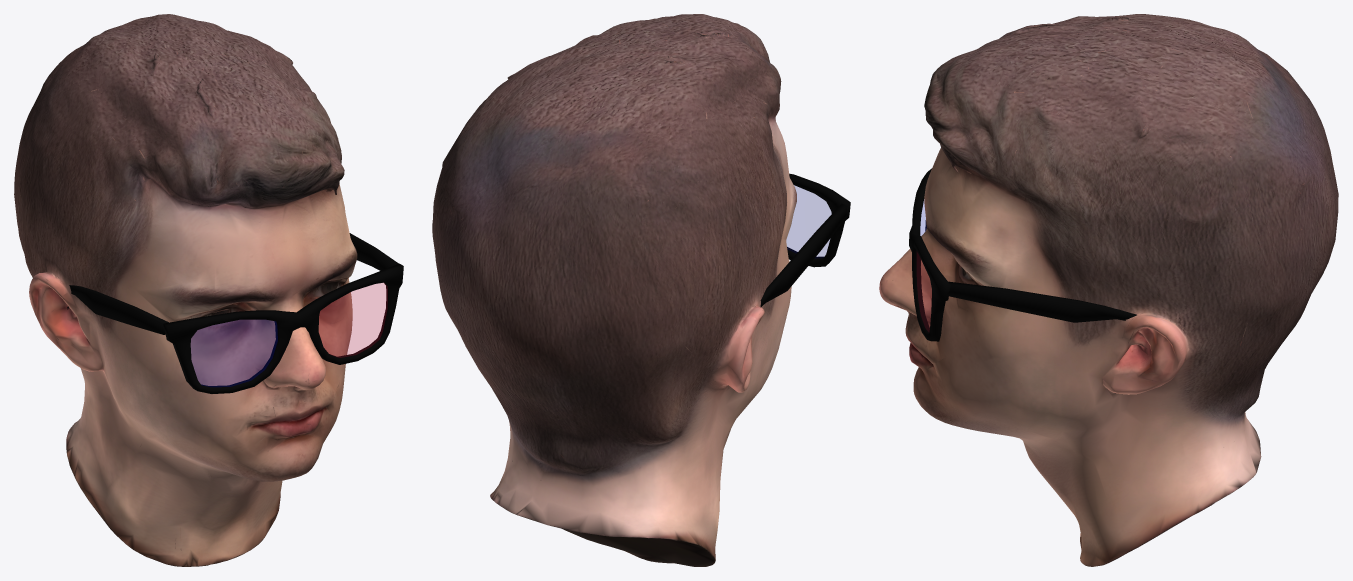
Rendered from mid_me_n_glasses3.glb.
3 renders of one model, left to right at view 1: azimuth 30°, elevation 25°; view 2: azimuth 150°, elevation 25°; view 3: azimuth 270°, elevation 25°, orthographic. The views are drawn at different scales.
Visible parts, largest first — view 1: Mesh1.0, Mesh_0.003; view 2: Mesh1.0, Mesh_0.003; view 3: Mesh1.0, Mesh_0.003.
Part boxes in pixels (x1,y1,x2,y2): Mesh1.0: (14, 14, 394, 566); Mesh_0.003: (67, 233, 403, 393); Mesh1.0: (432, 14, 845, 566); Mesh_0.003: (760, 173, 850, 307); Mesh1.0: (879, 14, 1338, 566); Mesh_0.003: (909, 168, 1136, 341).
Size of the model in its own units: 2.01 by 3.39 by 2.74.
Materials: 4 (1 with a texture image).
